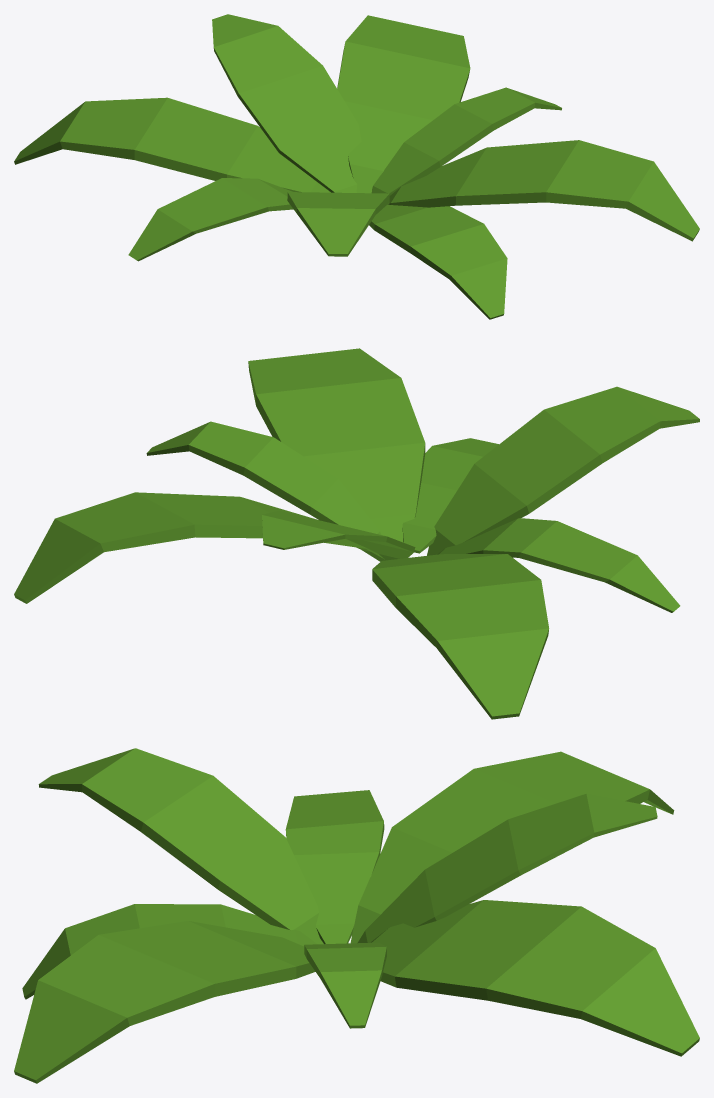
Rendered from result.gltf.
3 renders of one model, top to bottom at view 1: azimuth 30°, elevation 25°; view 2: azimuth 150°, elevation 25°; view 3: azimuth 270°, elevation 25°, orthographic. The views are drawn at different scales.
Parts seen in each view (by area): view 1: Plant_3; view 2: Plant_3; view 3: Plant_3.
Boxes of the visible parts, x1,y1,x2,y2 form: Plant_3: (14,14,699,319); Plant_3: (14,348,699,719); Plant_3: (14,748,699,1083).
Size of the model in its own units: 139 by 37.72 by 142.
